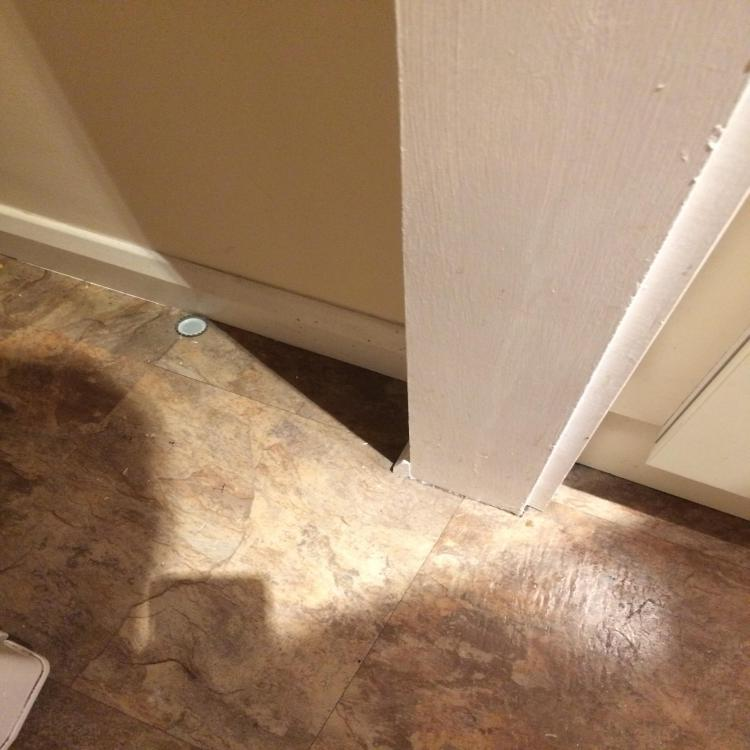Metal bottle cap: (174, 315, 207, 337)
